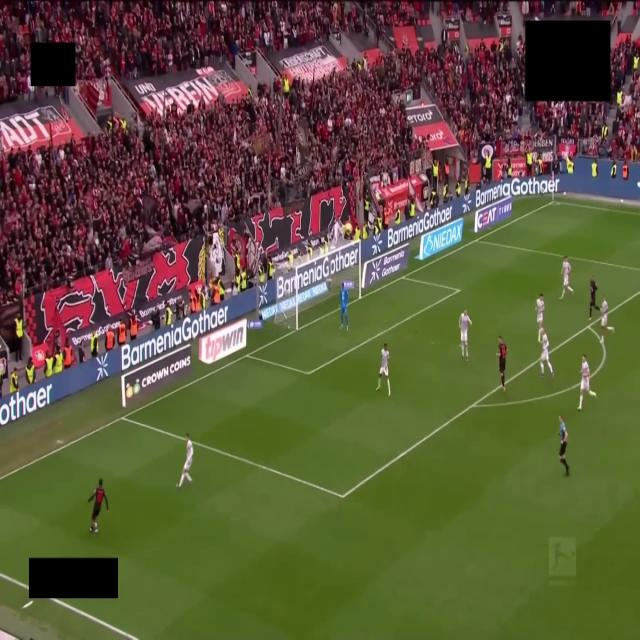player: (88, 479, 108, 533), (578, 355, 595, 410), (177, 433, 193, 487), (376, 344, 390, 395), (459, 309, 473, 360), (540, 328, 553, 376), (601, 297, 614, 343), (560, 256, 573, 300), (497, 336, 507, 391), (588, 275, 599, 320), (340, 282, 349, 330), (536, 294, 544, 342)
referee: (559, 416, 569, 475)
